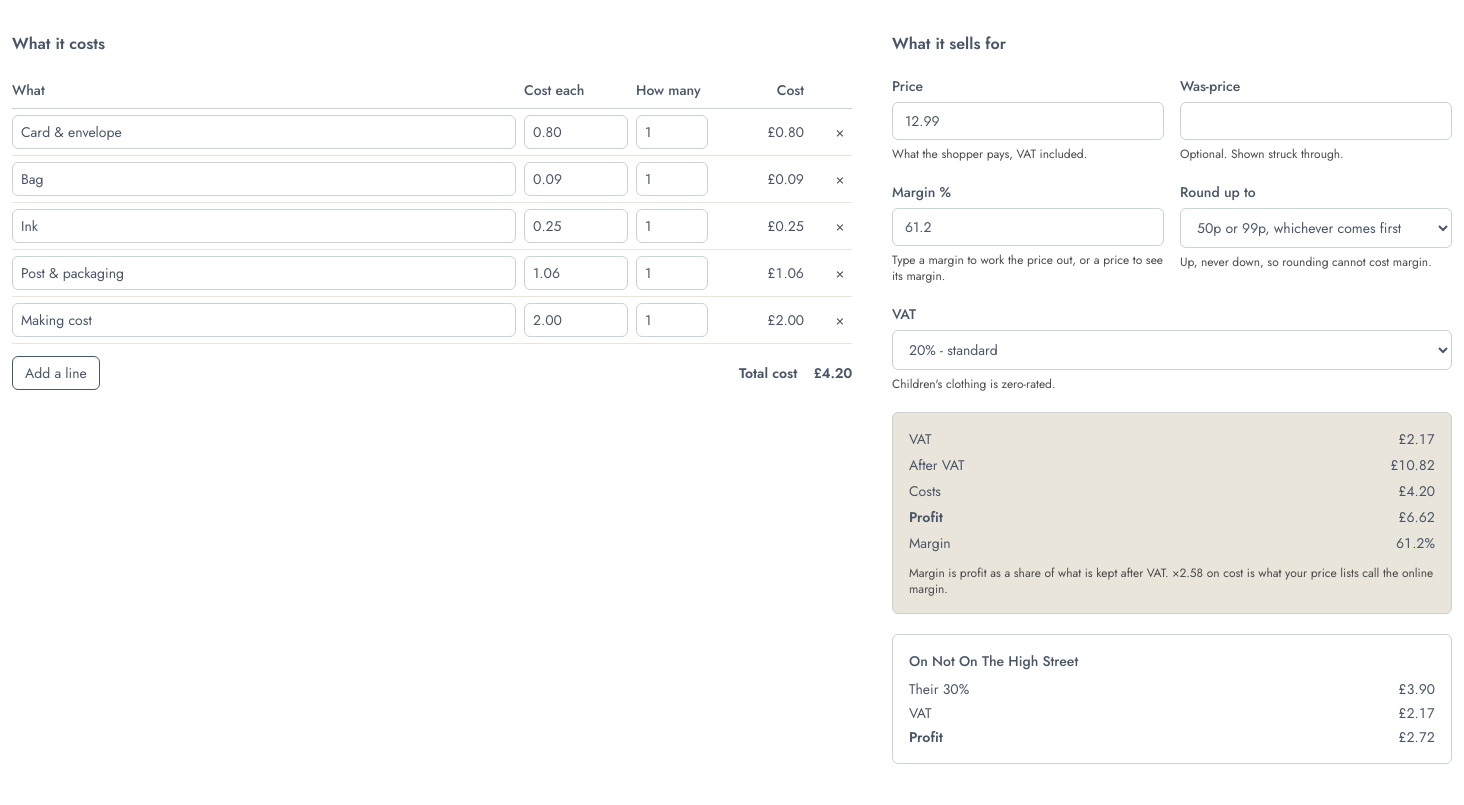
Test case: PricingEditor › adds a line, and the cost follows
Click the button "Add a line". click: coordinates (56, 373)
box: [12,356,100,390]
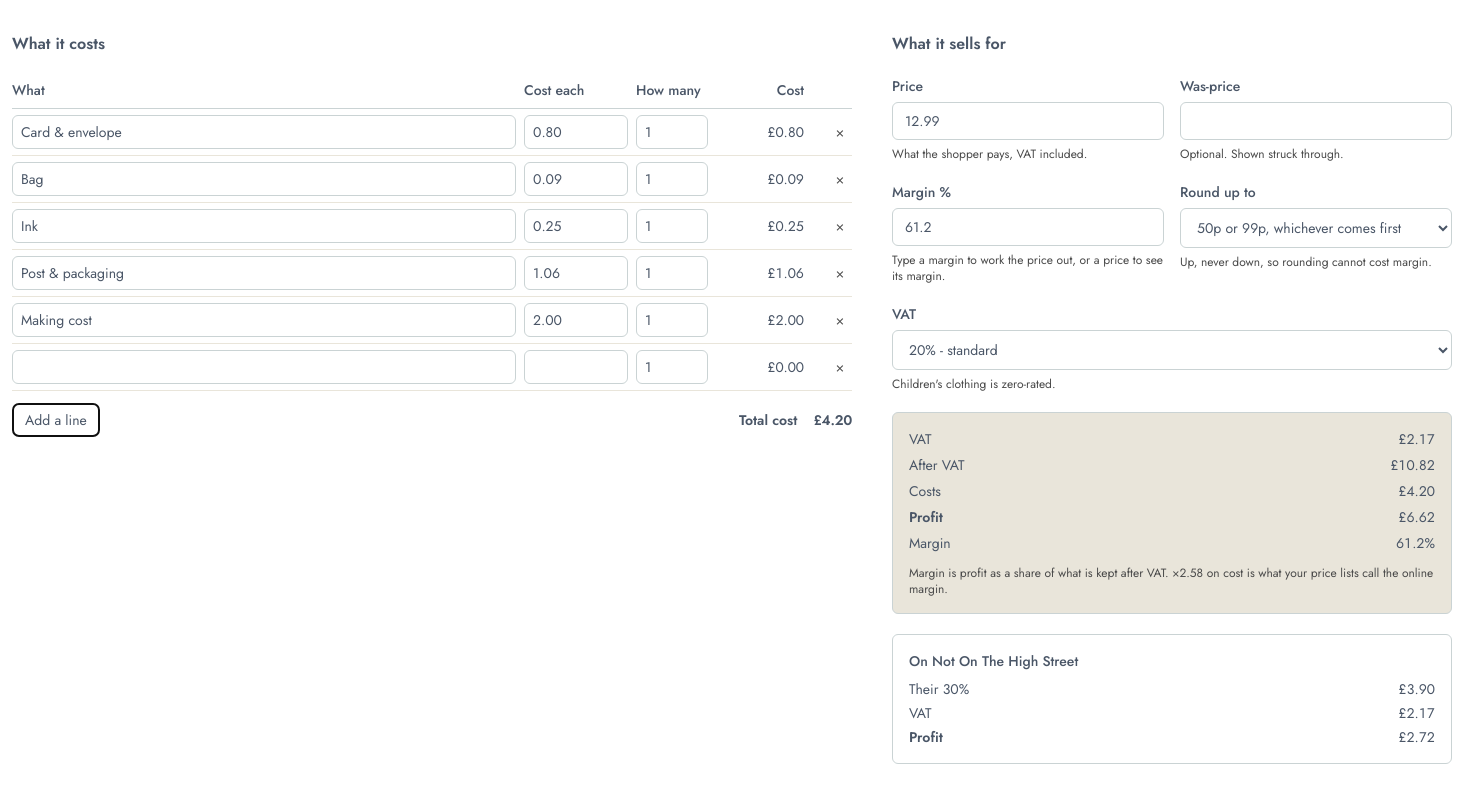
Type "Ribbon" into the field named "what" in the row of "£0.00". click: coordinates (264, 367)
box: [12,350,516,384]
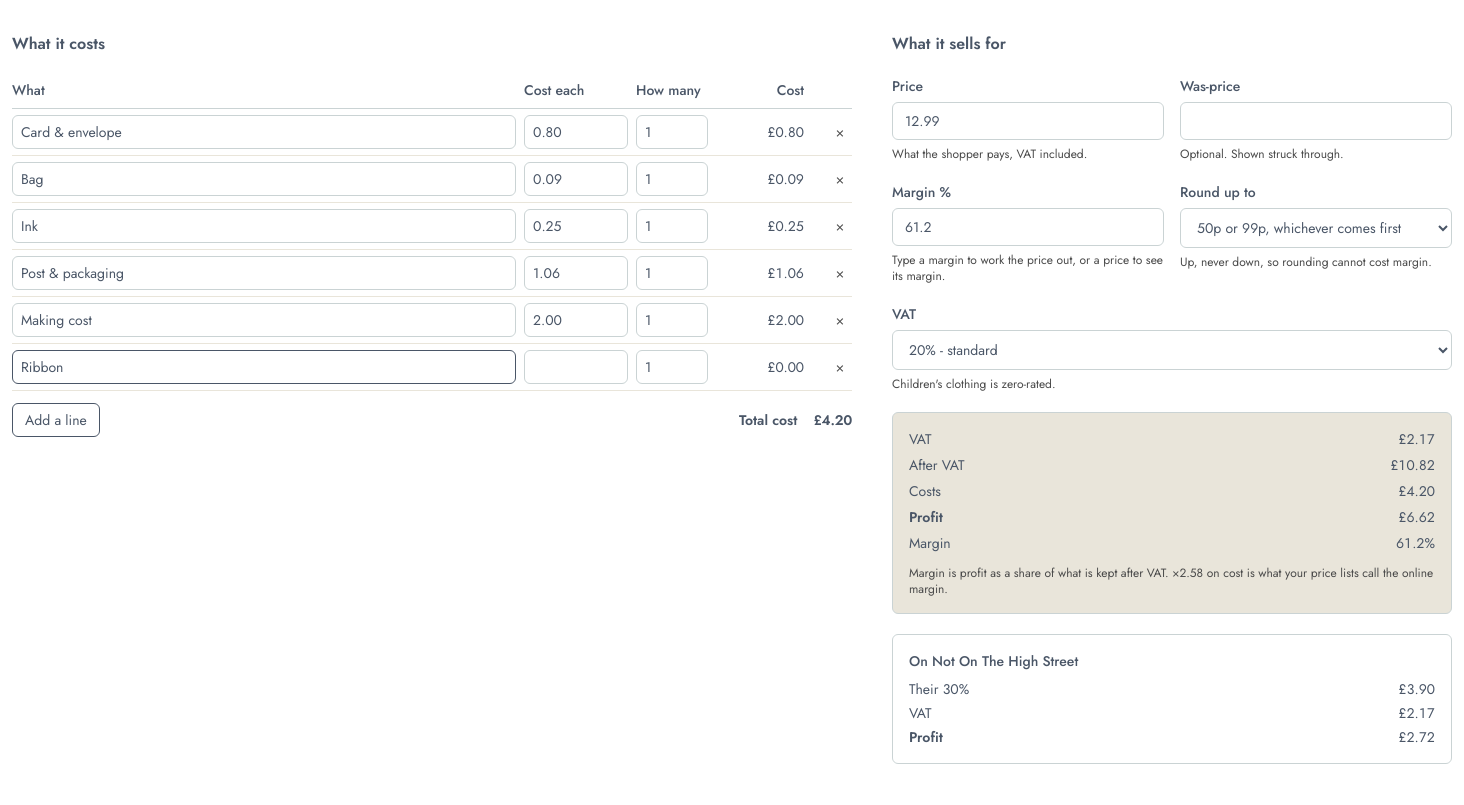
Type "0.30" into the field named "cost each" next to "£0.00". click: coordinates (576, 367)
box: [524,350,628,384]
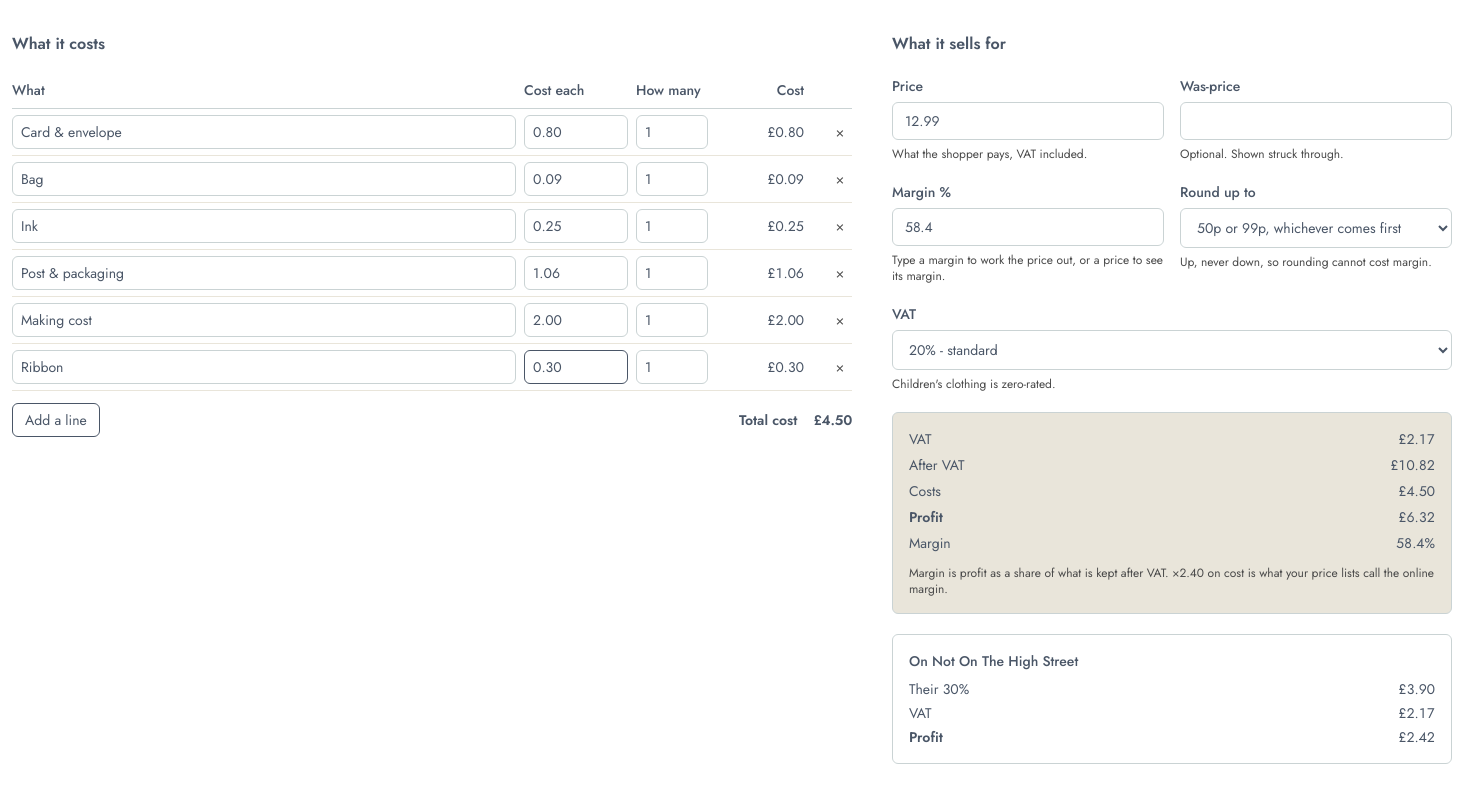
Expected: the text "£4.50" next to "Total cost" is shown, [813,410,852,430]
